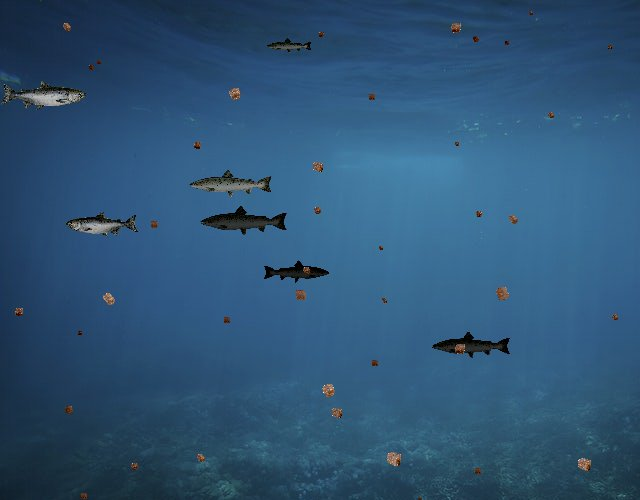Fish: (199, 205, 289, 237), (188, 168, 274, 199), (0, 80, 86, 111), (431, 331, 512, 360), (66, 212, 139, 238), (262, 260, 330, 284), (266, 38, 313, 55)
Pellet: (306, 155, 329, 178), (503, 209, 523, 229), (57, 18, 76, 37), (189, 137, 206, 154), (368, 356, 382, 370), (85, 62, 98, 75), (452, 138, 462, 148)
